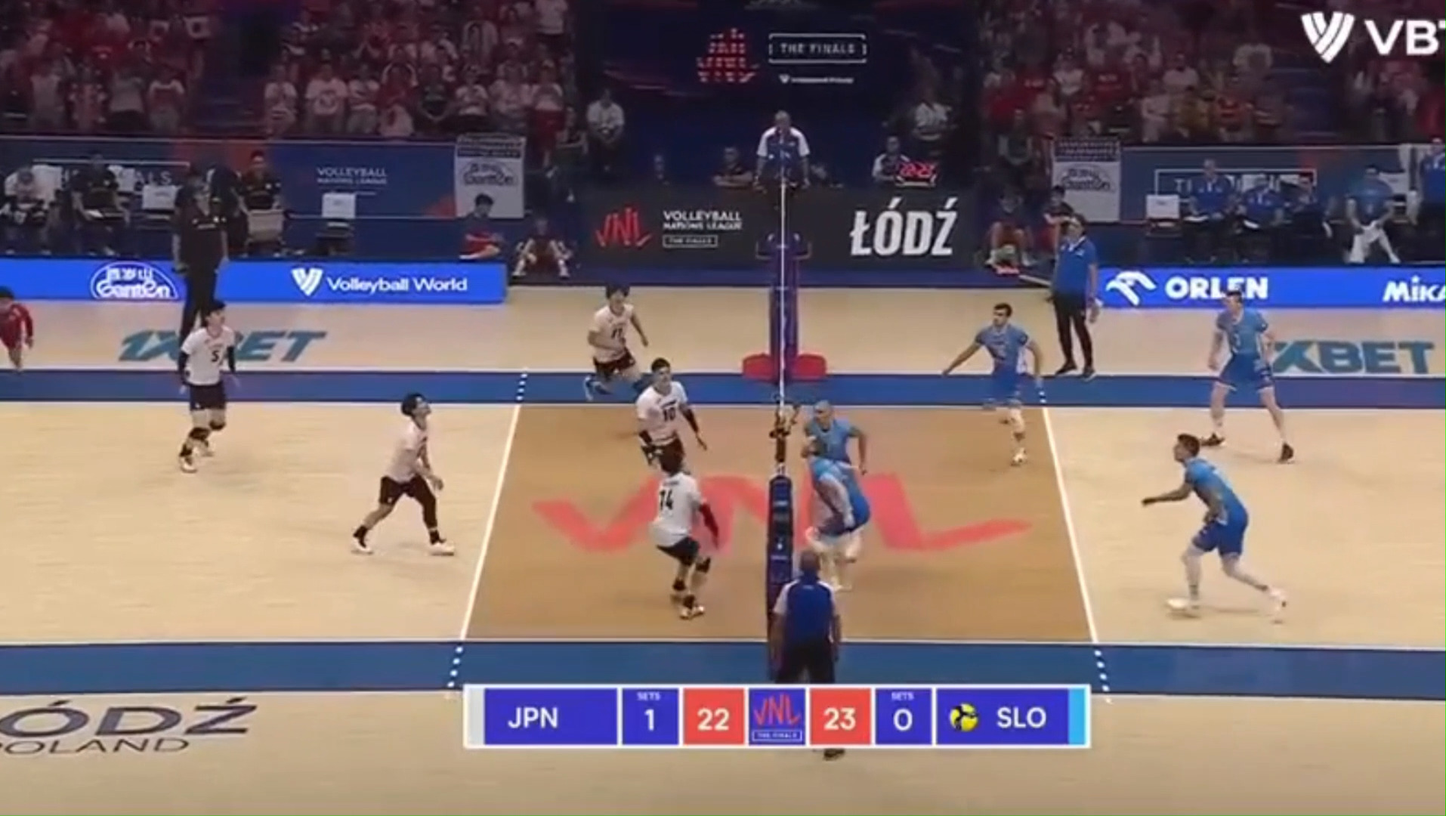player: (1142, 434, 1287, 615), (943, 302, 1041, 465), (1202, 289, 1294, 462), (803, 440, 871, 588), (805, 400, 867, 471)
player 1: (352, 393, 453, 555), (650, 448, 718, 618), (178, 301, 235, 471), (635, 358, 706, 464), (584, 286, 648, 399), (0, 286, 33, 371)
referee: (770, 550, 841, 683), (750, 111, 810, 262), (174, 173, 227, 335), (1050, 216, 1098, 379)
